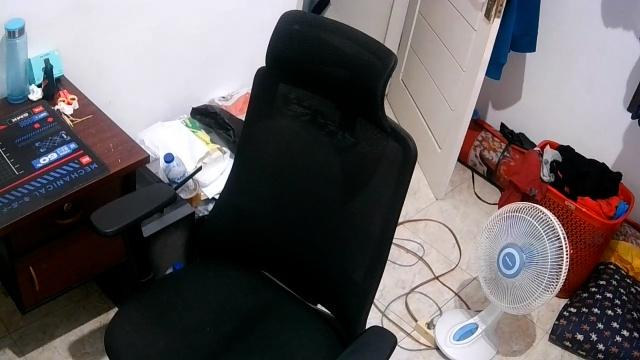Kursi: (91, 10, 418, 359)
